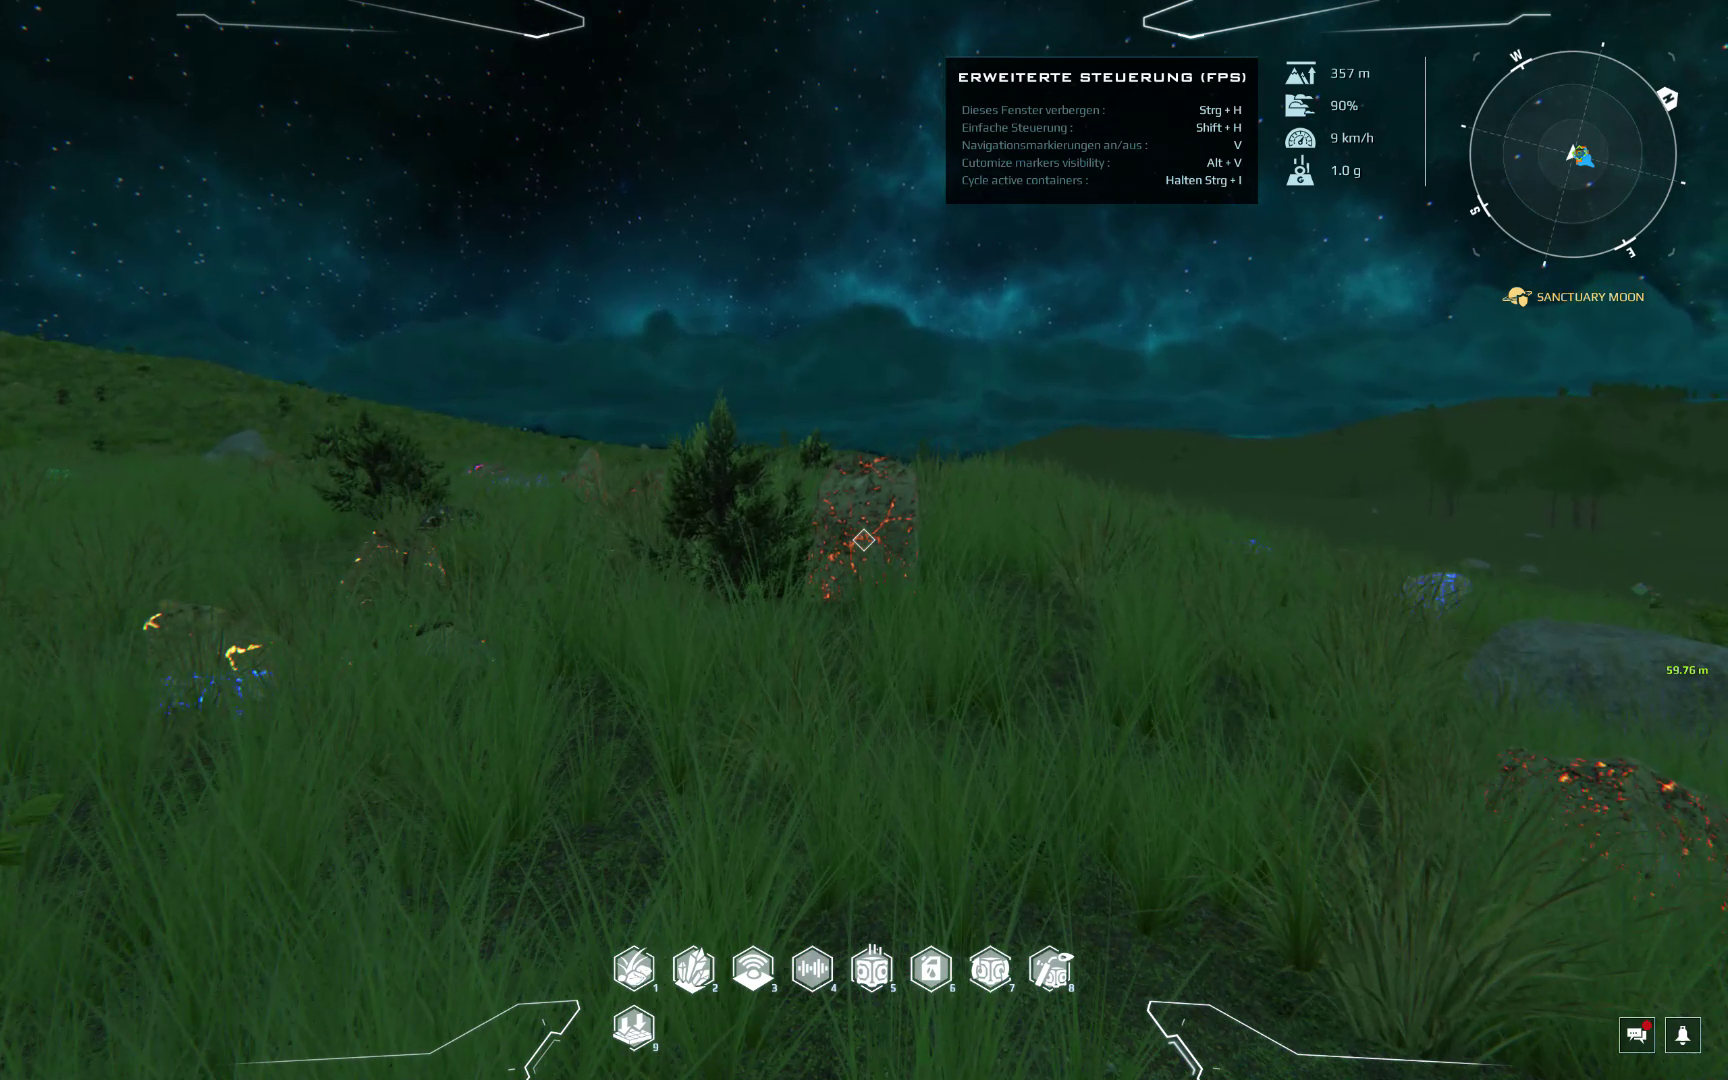Ore: (1468, 725, 1728, 929), (800, 444, 921, 607), (129, 594, 300, 688), (328, 506, 453, 618), (569, 445, 673, 520), (156, 666, 280, 715), (1391, 562, 1475, 630), (1225, 526, 1280, 562), (452, 453, 500, 486)
